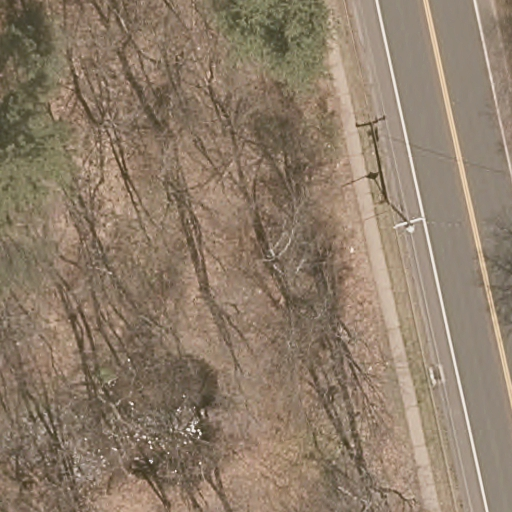DT: (382, 197, 423, 234)
